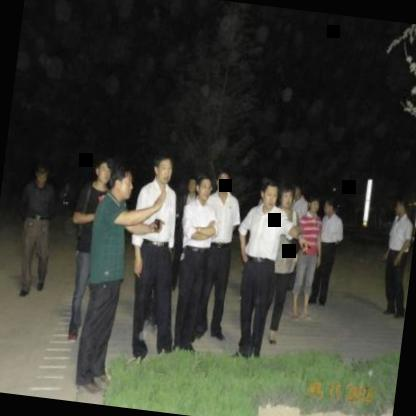head: (104, 154, 140, 204), (148, 150, 177, 188), (257, 174, 282, 210), (193, 170, 216, 204), (90, 153, 112, 188), (214, 166, 235, 200), (275, 180, 296, 210), (32, 158, 52, 186), (392, 195, 410, 220), (323, 193, 339, 216), (306, 192, 322, 214)
